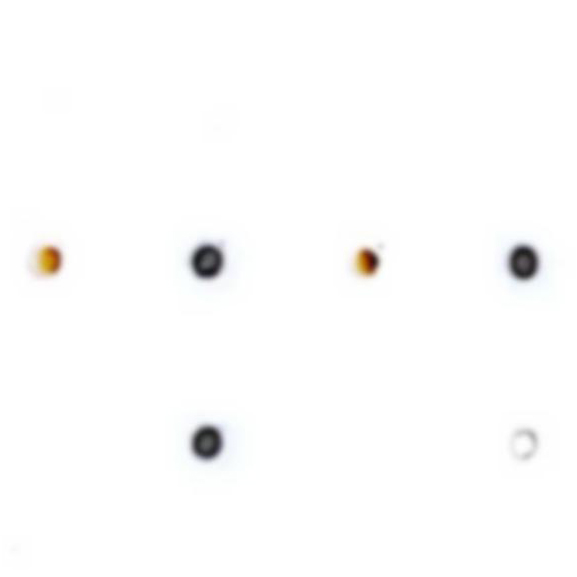abnormal: (493, 415, 553, 474)
cancer: (169, 403, 244, 481), (173, 224, 248, 301), (488, 232, 557, 298)
normal: (327, 226, 399, 293), (24, 240, 73, 286)
